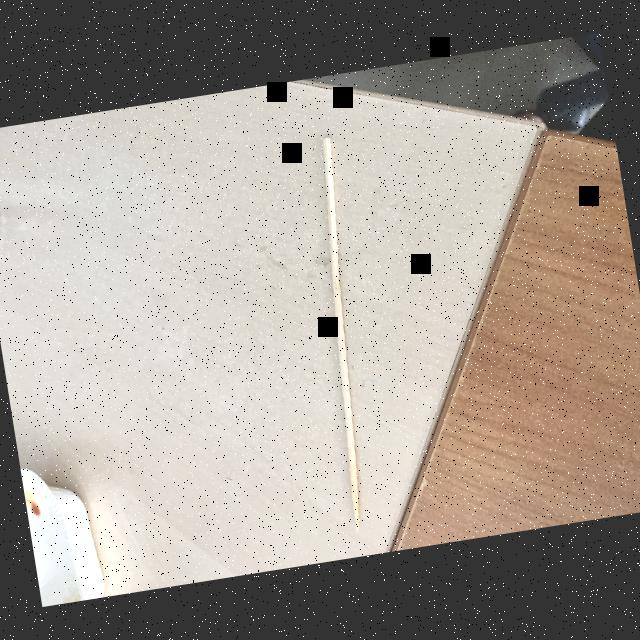stick: (279, 126, 400, 540)
